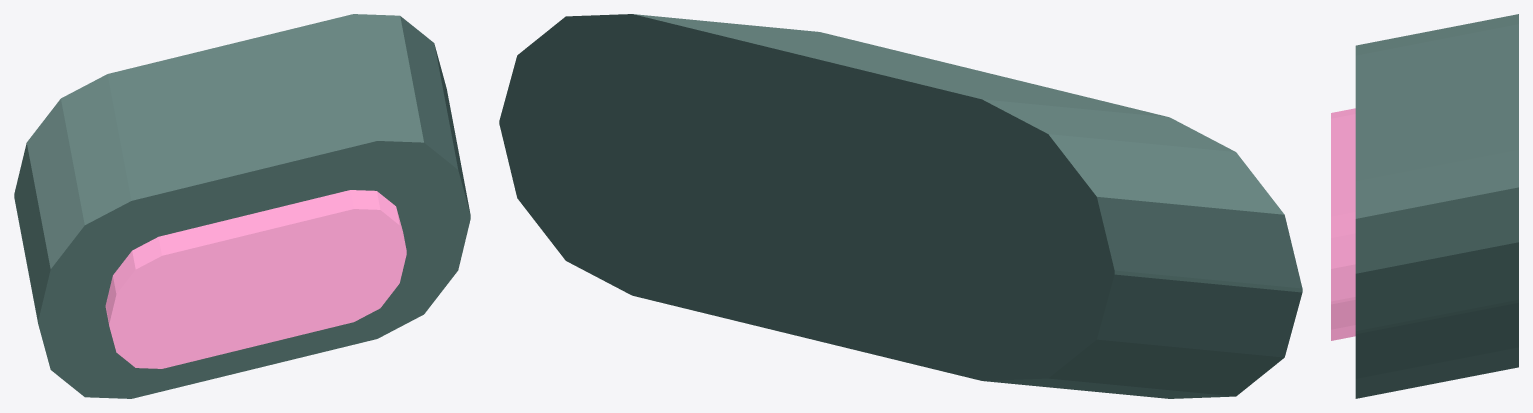
File: Signal_Lamp3D.gltf
3 renders of one model, left to right at view 1: azimuth 30°, elevation 25°; view 2: azimuth 150°, elevation 25°; view 3: azimuth 270°, elevation 25°, orthographic. The views are drawn at different scales.
Parts seen in each view (by area): view 1: Signal_Lamp3D_baked; view 2: Signal_Lamp3D_baked; view 3: Signal_Lamp3D_baked.
Boxes of the visible parts, box(x1,y1,x2,y2) form: Signal_Lamp3D_baked: box(14, 14, 470, 398); Signal_Lamp3D_baked: box(499, 14, 1302, 398); Signal_Lamp3D_baked: box(1331, 14, 1518, 398).
Size of the model in its own units: 0.36 by 0.18 by 0.115.
